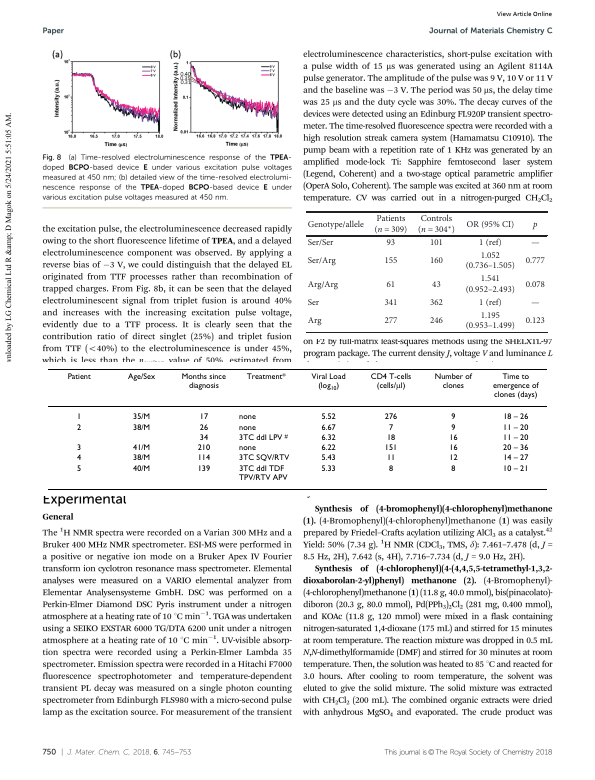borderless: (47, 367, 547, 489), (306, 210, 548, 333)
cell: (491, 371, 539, 400), (464, 251, 515, 272), (464, 274, 515, 295), (464, 311, 515, 332), (238, 463, 288, 482), (369, 370, 412, 392), (180, 371, 226, 390), (417, 214, 456, 235), (310, 371, 346, 392), (433, 371, 472, 390), (373, 214, 408, 235), (306, 219, 364, 230), (465, 219, 515, 230), (238, 453, 290, 463), (238, 432, 288, 442), (245, 371, 286, 381), (306, 279, 339, 290), (126, 371, 156, 381), (306, 256, 336, 266), (306, 238, 334, 248), (502, 412, 529, 422), (502, 422, 529, 432), (502, 443, 529, 453), (502, 453, 529, 463), (502, 463, 529, 473), (66, 371, 91, 381), (502, 433, 529, 442), (478, 238, 502, 248), (478, 298, 502, 308), (524, 279, 545, 290), (524, 316, 545, 327), (524, 256, 545, 266), (132, 412, 151, 422), (132, 422, 151, 432), (132, 443, 151, 453), (132, 453, 151, 463), (132, 463, 151, 473), (238, 412, 256, 422), (238, 422, 256, 432), (238, 443, 256, 453), (306, 316, 322, 327), (383, 316, 398, 327), (429, 316, 444, 327), (320, 412, 336, 422), (320, 422, 336, 432), (320, 443, 336, 453), (320, 453, 336, 463), (320, 463, 336, 473), (383, 412, 398, 422), (196, 443, 211, 453), (383, 443, 398, 453), (196, 453, 211, 463), (196, 463, 211, 473), (429, 238, 444, 248), (383, 256, 398, 266), (429, 256, 444, 266), (383, 298, 398, 308), (429, 298, 444, 308), (320, 433, 336, 442), (306, 298, 320, 308), (385, 279, 396, 290), (198, 412, 209, 422), (198, 422, 209, 432), (385, 453, 396, 463), (385, 238, 396, 248), (431, 279, 441, 290), (448, 443, 458, 453), (448, 453, 458, 463), (198, 433, 209, 442), (385, 433, 396, 442), (448, 433, 458, 442), (387, 422, 394, 432), (387, 463, 394, 473), (76, 412, 82, 422), (450, 412, 456, 422), (76, 422, 82, 432), (450, 422, 456, 432), (76, 443, 82, 453), (76, 453, 82, 463), (76, 463, 82, 473), (450, 463, 456, 473), (532, 221, 538, 230), (530, 242, 540, 246), (530, 302, 540, 306)
